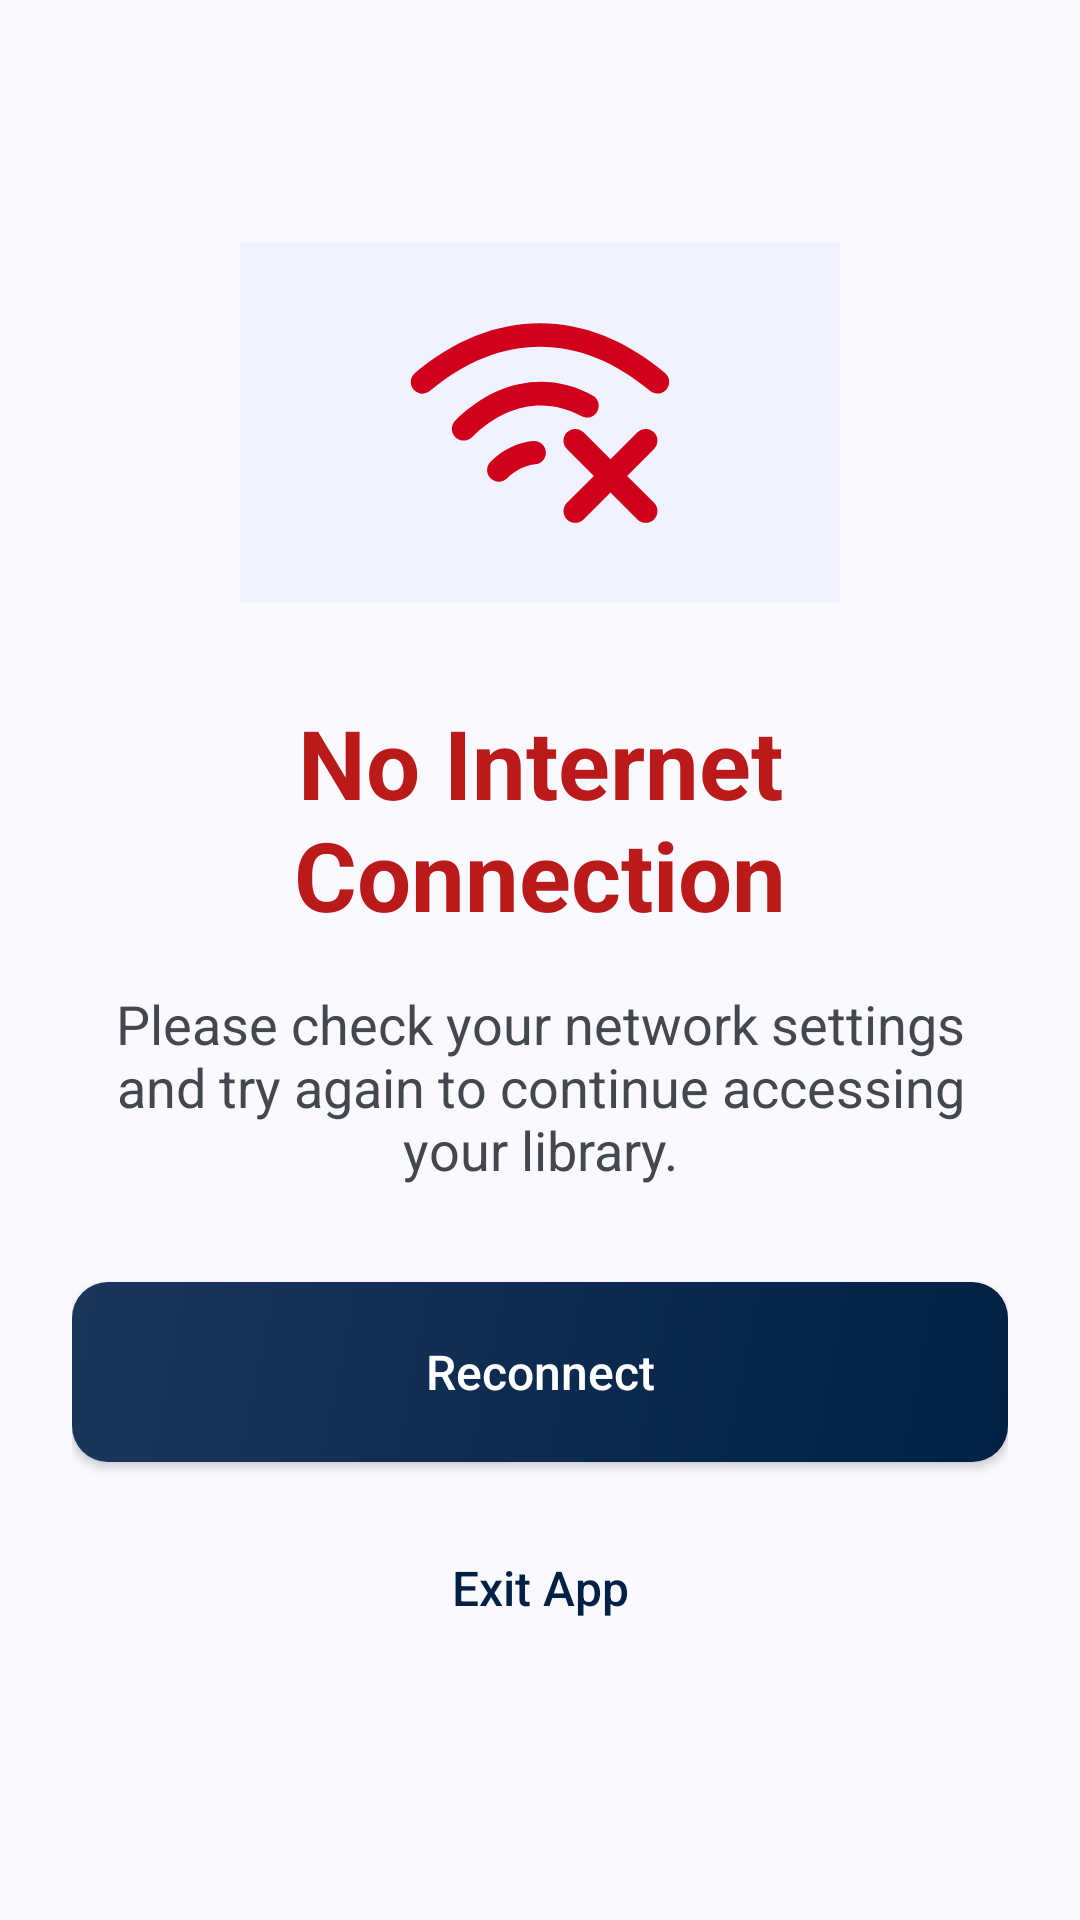

Icon click points for this 1080px x 1920px phone screenshot, format [x,y]:
wifi off: [540,423]
